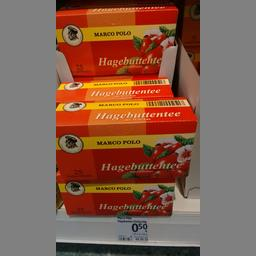tea: (54, 96, 196, 182), (55, 4, 177, 78), (56, 80, 173, 99)
